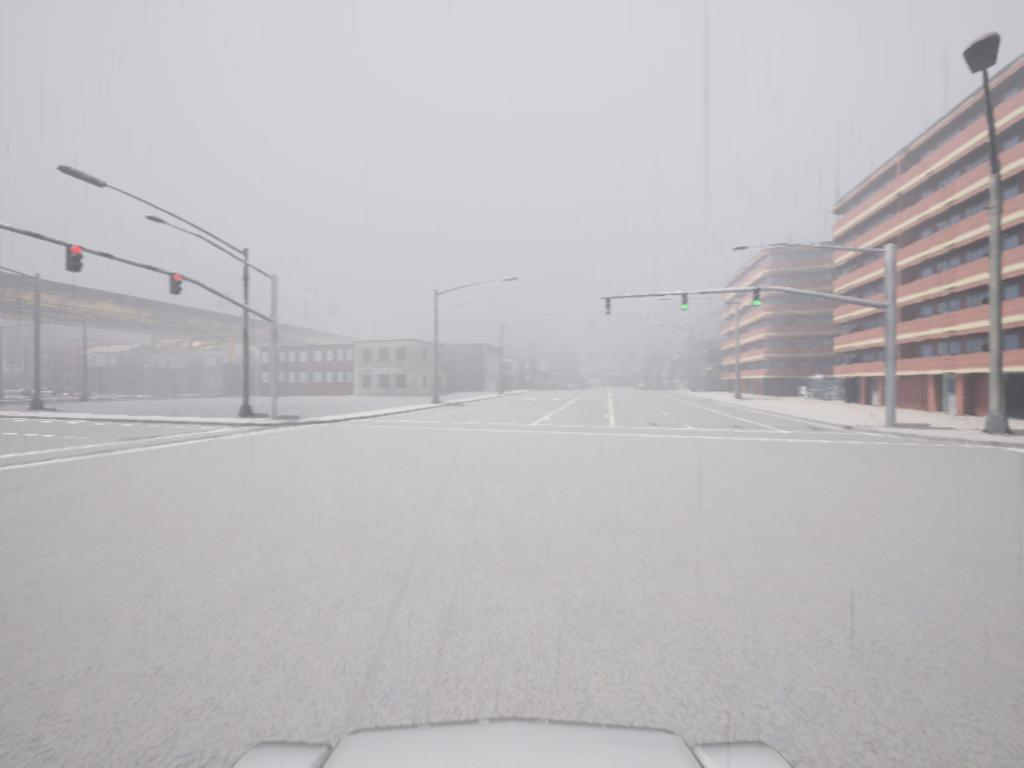traffic_light: (67, 244, 84, 272), (170, 274, 184, 294), (753, 292, 762, 308), (606, 299, 613, 315), (683, 295, 689, 312)
